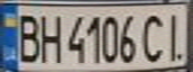0: (100, 11, 121, 64)
1: (84, 11, 103, 64)
4: (63, 10, 87, 63)
6: (118, 10, 142, 64)
B: (9, 10, 42, 63)
C: (139, 10, 169, 63)
H: (36, 10, 63, 64)
I: (160, 8, 190, 62)
